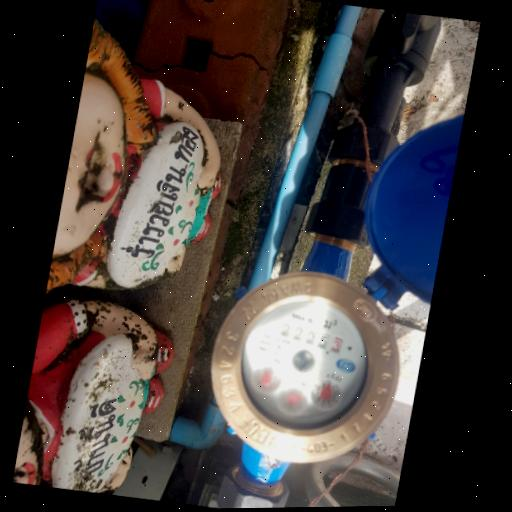0: (290, 324, 305, 342), (278, 320, 292, 338), (304, 328, 317, 345)
3: (329, 336, 343, 354)
5: (315, 332, 330, 350)
border_water_meter_number: (274, 316, 354, 359)
